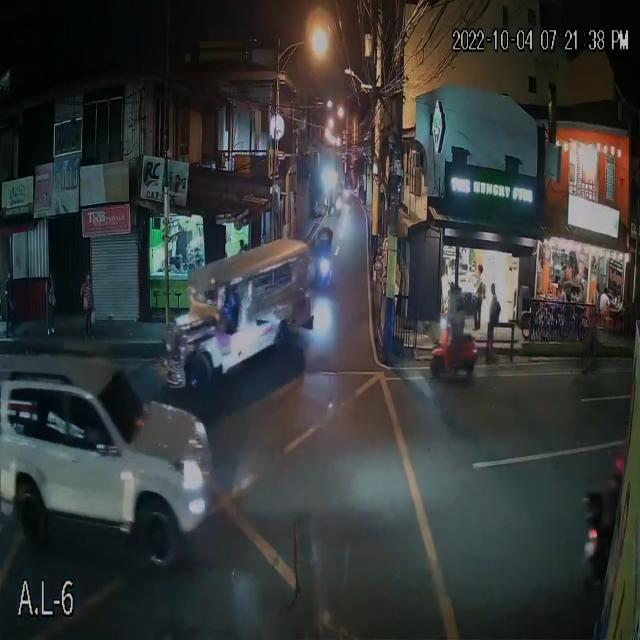Full-Faced: (455, 295, 464, 313)
